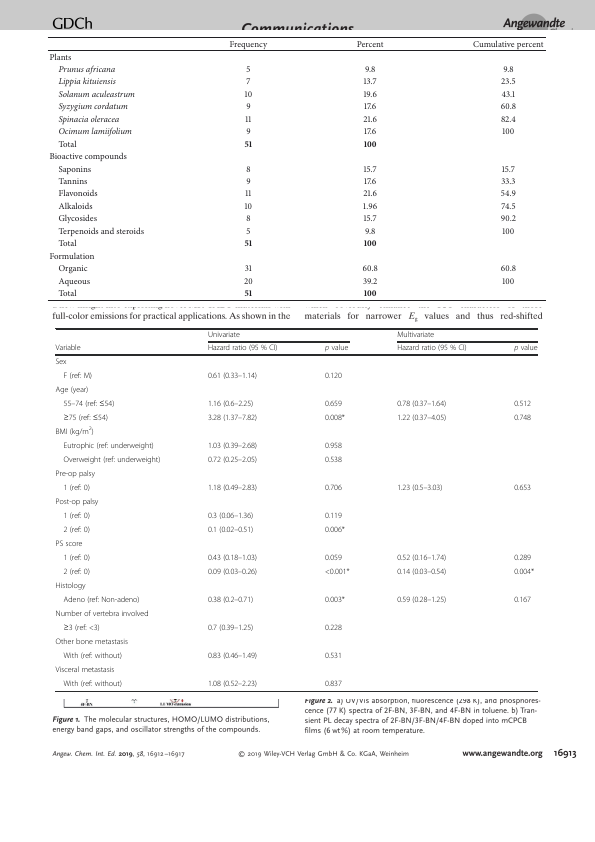borderless: (54, 327, 538, 691), (46, 35, 546, 300)
cell: (62, 455, 161, 465), (57, 226, 145, 237), (55, 609, 149, 619), (62, 441, 155, 451), (48, 151, 128, 162), (57, 89, 136, 100), (57, 126, 133, 137), (472, 39, 545, 50), (62, 595, 140, 605), (55, 637, 129, 647), (57, 102, 129, 112), (396, 344, 468, 354), (207, 344, 278, 354), (57, 114, 120, 125), (57, 64, 116, 75), (62, 651, 123, 661), (62, 679, 123, 689), (57, 77, 117, 87), (55, 665, 115, 675), (62, 399, 115, 409), (48, 251, 95, 262), (207, 371, 258, 381), (396, 399, 447, 409), (207, 413, 258, 423), (396, 413, 447, 423), (207, 441, 258, 451), (207, 455, 258, 465), (207, 483, 258, 493), (207, 553, 258, 563), (396, 553, 447, 563), (207, 567, 258, 577), (396, 567, 447, 577), (396, 595, 447, 605), (207, 651, 258, 661), (207, 679, 258, 689), (207, 399, 254, 409), (62, 413, 109, 423), (396, 483, 443, 493), (207, 511, 254, 521), (207, 525, 254, 535), (207, 595, 254, 605), (207, 623, 254, 633), (55, 426, 95, 437), (55, 497, 99, 507), (229, 39, 268, 50), (57, 189, 99, 199), (57, 214, 98, 224), (55, 469, 96, 479), (57, 201, 94, 212), (62, 623, 101, 633), (57, 276, 91, 287), (57, 263, 89, 274), (396, 331, 435, 340), (57, 164, 92, 174), (57, 176, 88, 187), (55, 385, 89, 395), (356, 39, 385, 50), (62, 371, 93, 381), (55, 581, 86, 591), (207, 331, 241, 340), (62, 483, 91, 493), (62, 511, 91, 521), (62, 525, 91, 535), (62, 553, 91, 563), (62, 567, 91, 577), (55, 539, 83, 549), (324, 567, 351, 577), (55, 344, 81, 354), (324, 344, 349, 354), (513, 344, 538, 354), (48, 52, 72, 62), (57, 139, 78, 150), (57, 288, 78, 299), (324, 413, 346, 423), (324, 525, 346, 535), (513, 567, 535, 577), (324, 595, 346, 605), (57, 239, 78, 249), (324, 371, 343, 381), (324, 399, 343, 409), (513, 399, 532, 409), (513, 413, 532, 423), (324, 441, 343, 451), (324, 455, 343, 465), (324, 483, 343, 493), (513, 483, 532, 493), (324, 511, 343, 521), (324, 553, 343, 563), (513, 553, 532, 563), (513, 595, 532, 605), (324, 623, 343, 633), (324, 651, 343, 661), (324, 679, 343, 689), (500, 114, 517, 125), (500, 201, 517, 212), (362, 263, 379, 274), (500, 263, 517, 274), (362, 89, 378, 100), (362, 114, 378, 125), (500, 176, 516, 187), (362, 201, 378, 212), (362, 276, 378, 287), (500, 77, 517, 87), (500, 102, 517, 112), (500, 189, 517, 199), (500, 214, 517, 224), (501, 89, 516, 100), (362, 189, 378, 199), (363, 126, 377, 137), (501, 126, 515, 137), (363, 176, 377, 187), (501, 226, 515, 237), (501, 276, 515, 287), (363, 77, 378, 87), (363, 164, 378, 174), (501, 164, 516, 174), (363, 214, 378, 224), (502, 64, 515, 75), (363, 102, 377, 112), (363, 288, 378, 297), (364, 64, 376, 75), (364, 226, 376, 237), (243, 276, 254, 287), (363, 139, 378, 147), (363, 239, 378, 247), (55, 357, 67, 367), (244, 89, 253, 100), (244, 201, 253, 212), (244, 263, 253, 274), (244, 114, 252, 125), (244, 288, 253, 297), (244, 189, 252, 199), (245, 126, 252, 137), (245, 176, 252, 187), (244, 139, 253, 147), (244, 239, 253, 247), (245, 102, 252, 112), (245, 164, 252, 174), (245, 214, 252, 224), (245, 64, 251, 75), (245, 226, 251, 237), (245, 77, 251, 87)
